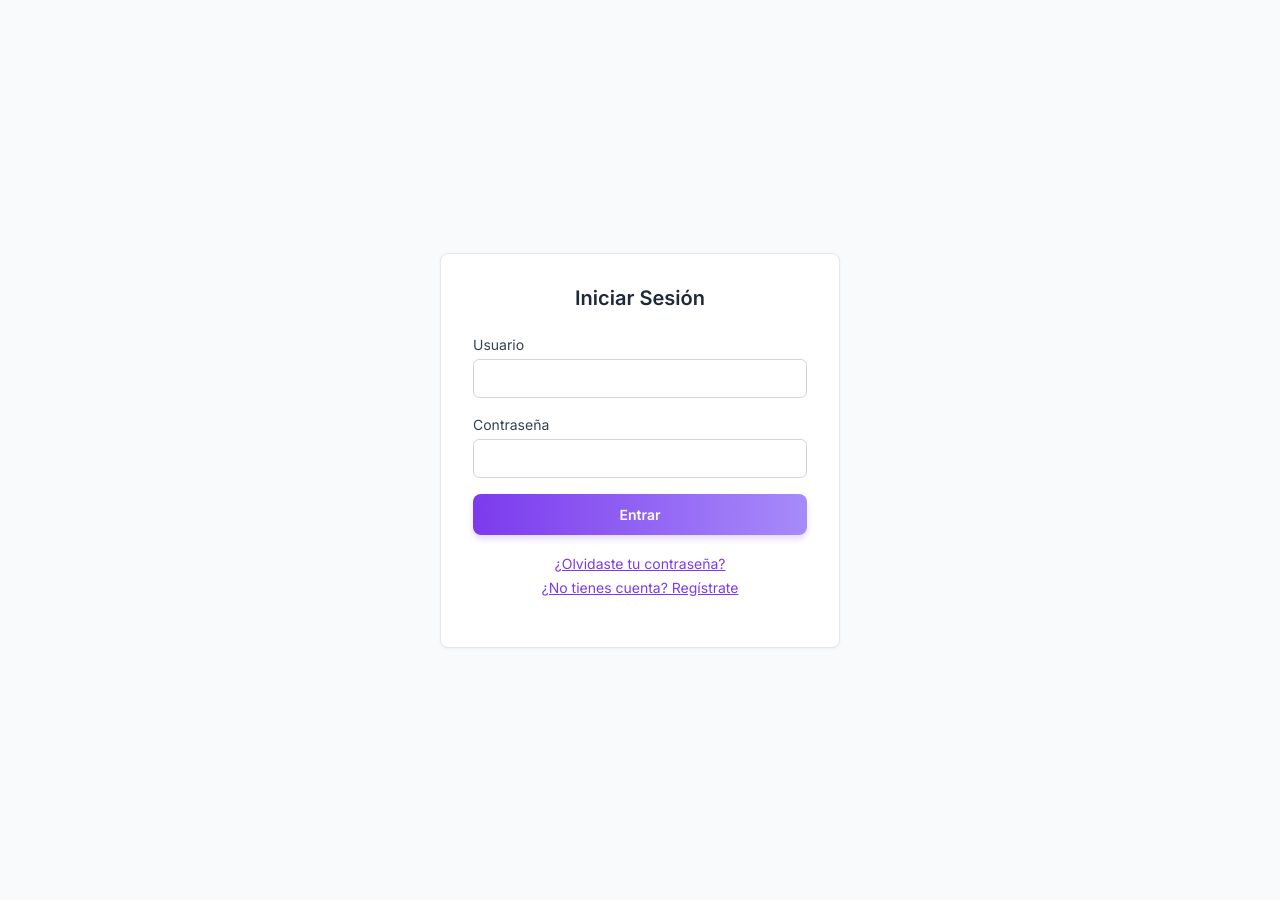
Test: muestra el modal de recuperación al hacer clic
This screenshot has width=1280, height=900.
Click the button with class "auth-toggle-link" showing "¿Olvidaste tu contraseña?" at point(640, 563), box [554,552,726,574]
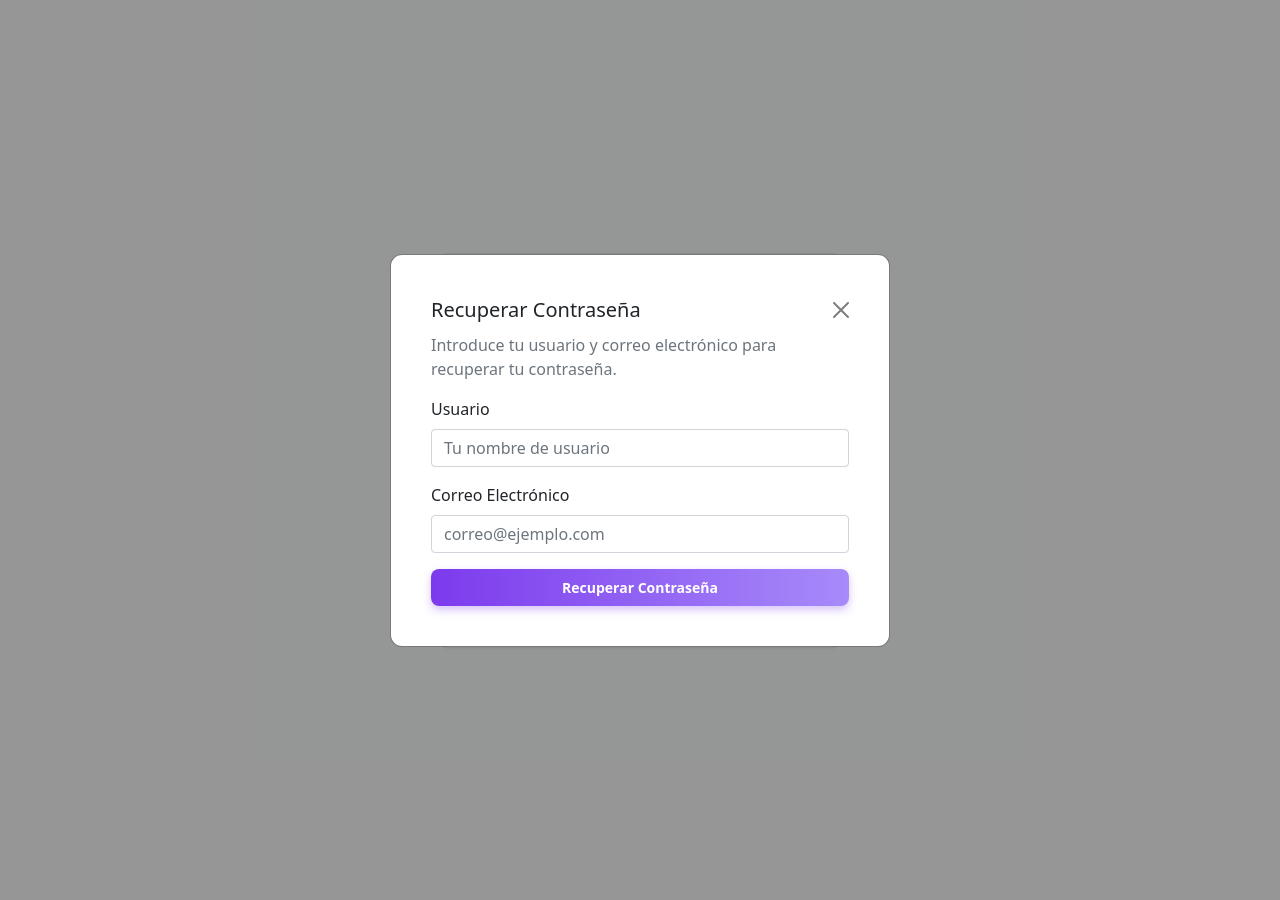
Expected: the element that starts with "Recuperar Contraseña" is shown
